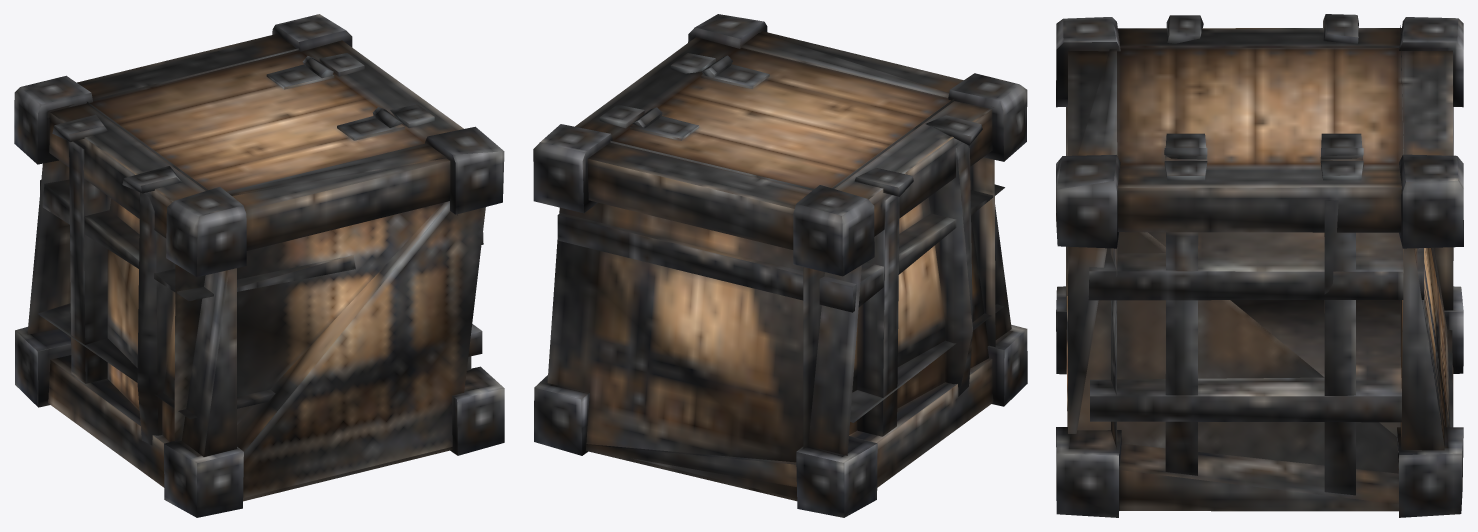
File: prop_crate.glb
The picture shows the model from 3 angles, left to right: view 1: azimuth 30°, elevation 25°; view 2: azimuth 150°, elevation 25°; view 3: azimuth 270°, elevation 25°; orthographic projection. The views are drawn at different scales.
Bounding box in the file's own units: 0.9948 × 0.9 × 0.9835.
Materials: 1 (1 with a texture image).
